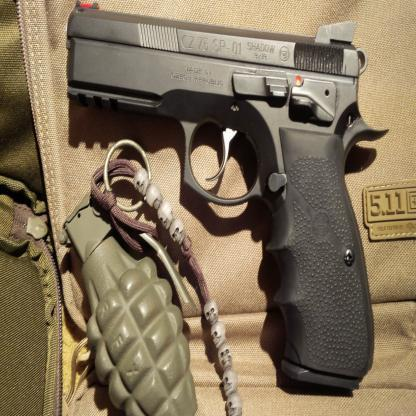Grenade: (58, 138, 198, 416)
Pistol: (66, 2, 390, 393)
